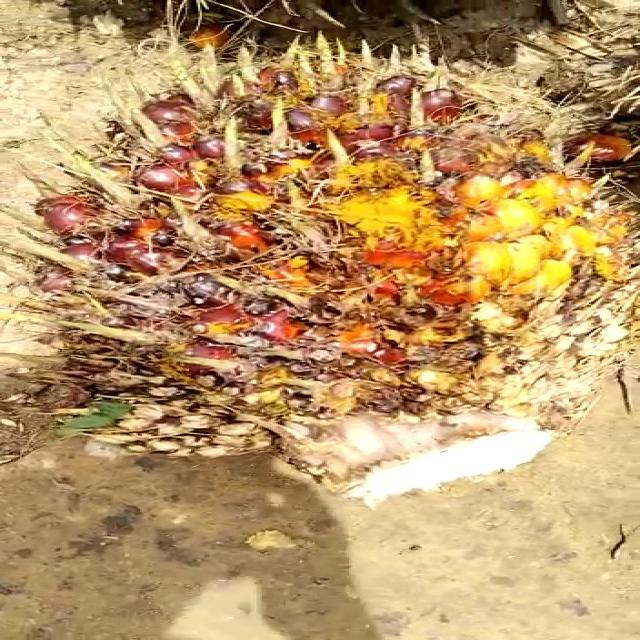palm oil: (37, 52, 640, 460)
